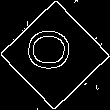O_E: (29, 33, 81, 77)
